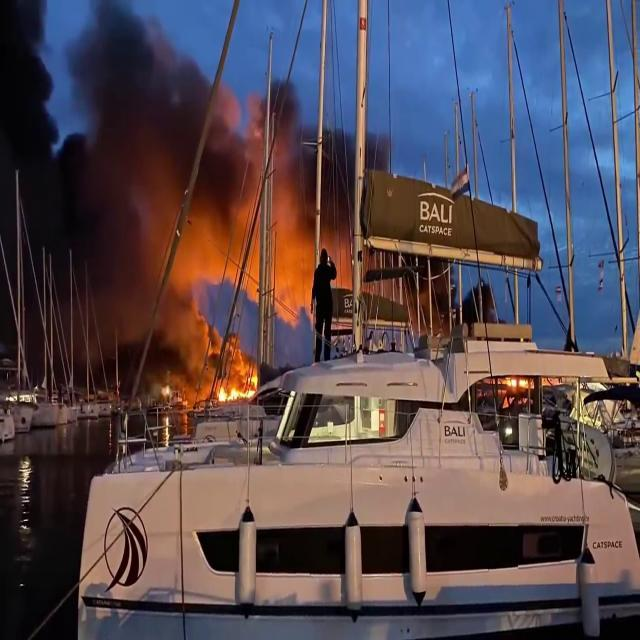Fire: (213, 366, 260, 407)
Smoke: (61, 1, 387, 388)
